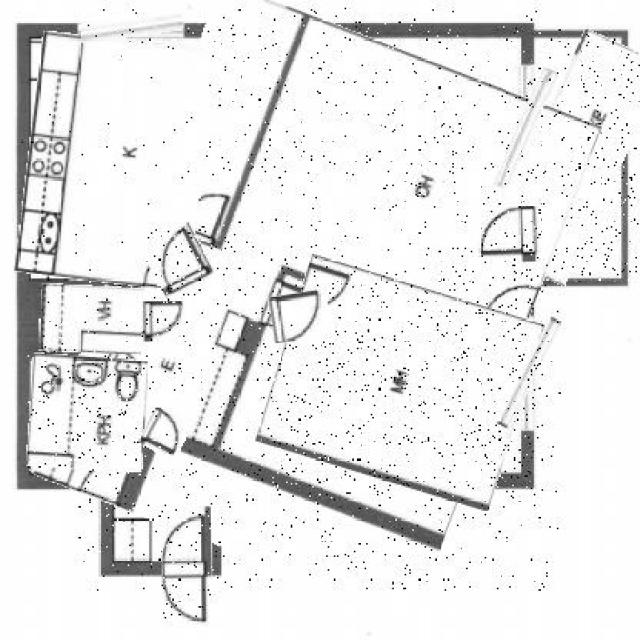door: (163, 506, 212, 625), (146, 227, 209, 296), (477, 208, 540, 263), (269, 292, 329, 342), (142, 411, 188, 457), (140, 300, 185, 342)
window: (508, 66, 548, 191), (510, 315, 548, 431), (80, 15, 183, 40)
zone: (76, 8, 562, 590), (268, 270, 532, 496), (20, 36, 209, 286), (24, 34, 208, 284), (506, 32, 640, 282), (28, 355, 146, 471), (40, 284, 143, 354)
